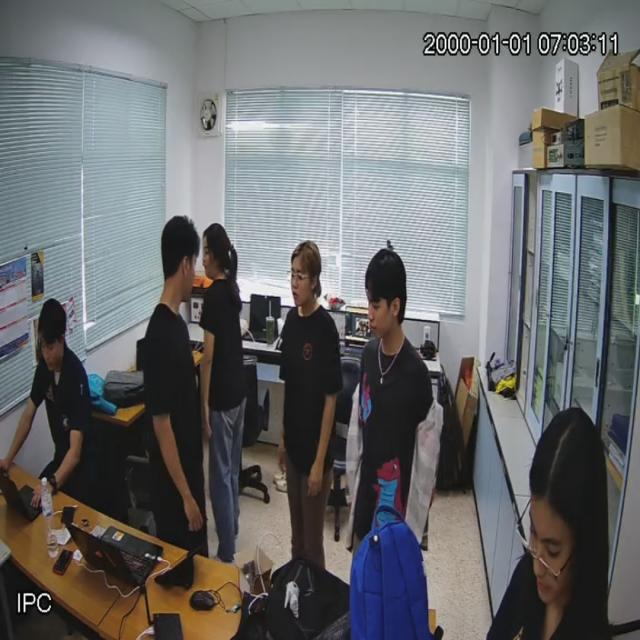normal: (347, 242, 441, 581), (278, 233, 348, 579), (144, 208, 208, 555), (199, 213, 253, 551), (29, 293, 100, 507)
